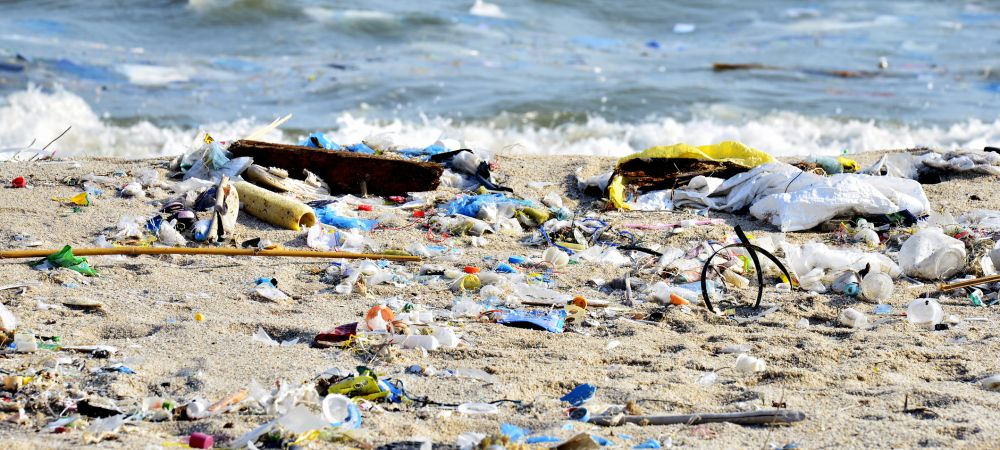litter: (543, 132, 951, 236), (663, 213, 890, 314), (293, 262, 467, 363), (234, 126, 450, 201), (557, 374, 819, 434), (267, 349, 400, 441), (906, 198, 1000, 313), (194, 167, 328, 241), (480, 282, 580, 346), (420, 200, 511, 243)
